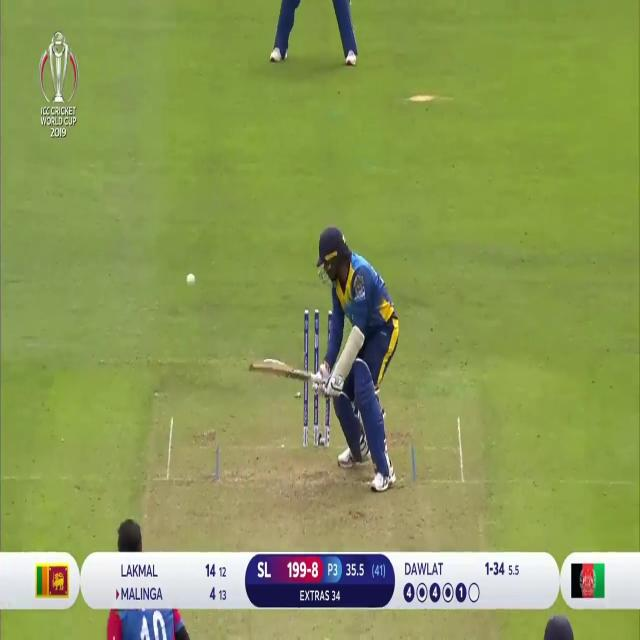ball: (184, 269, 198, 291)
